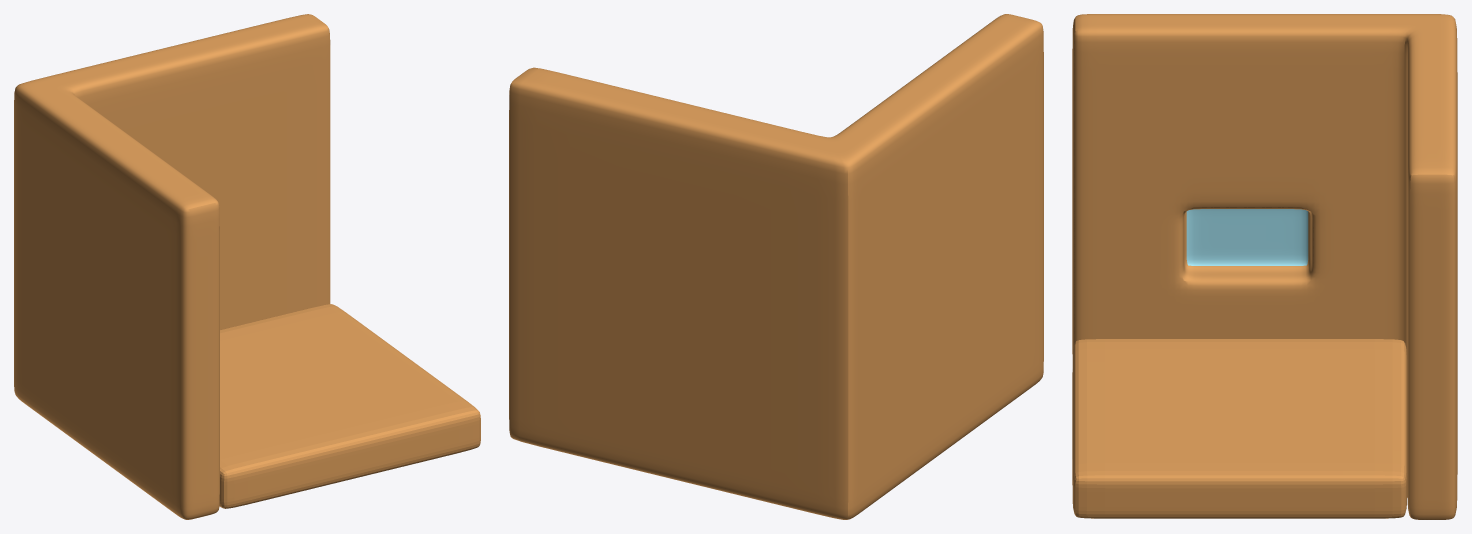
The model's file is jam3room_001.fbx.
3 renders of one model, left to right at view 1: azimuth 30°, elevation 25°; view 2: azimuth 150°, elevation 25°; view 3: azimuth 270°, elevation 25°, orthographic. The views are drawn at different scales.
Parts seen in each view (by area): view 1: Cube; view 2: Cube; view 3: Cube.
Part boxes in pixels (left/top/right/bottom): Cube: left=14, top=14, right=480, bottom=519; Cube: left=509, top=14, right=1043, bottom=519; Cube: left=1072, top=14, right=1457, bottom=519.
Bounding box in the file's own units: 700 × 702 × 700.
